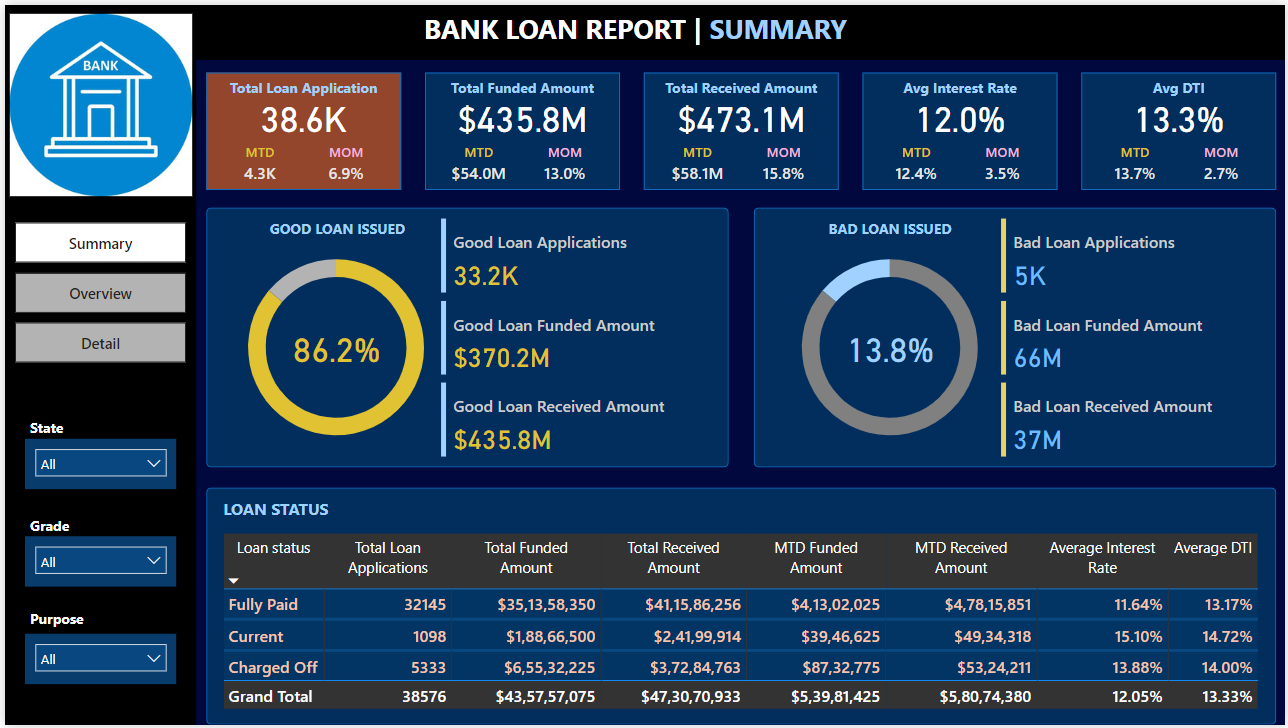

This screenshot's page, from the dashboard's own definition file:
{"tool":"powerbi","page":{"name":"Summary","canvas":[1280,720],"ordinal":1},"visuals":[{"type":"shape","box":[0,55,191.2,665],"z":0},{"type":"shape","box":[201.2,67.5,195,117.5],"z":0,"group":"g1"},{"type":"shape","box":[420.1,67.5,195,117.5],"z":0,"group":"g2"},{"type":"shape","box":[638.9,67.5,195,117.5],"z":0,"group":"g3"},{"type":"shape","box":[857.8,67.5,195,117.5],"z":0,"group":"g5"},{"type":"shape","box":[1076.6,67.5,195,117.5],"z":0,"group":"g4"},{"type":"card","fields":{"Values":["Dax Measures.Total Loan Applications"]},"box":[201.2,86.3,195,51.2],"z":1000,"group":"g1"},{"type":"card","fields":{"Values":["Dax Measures.Total Funded Amount"]},"box":[420.1,86.3,195,51.2],"z":1000,"group":"g2"},{"type":"card","fields":{"Values":["Dax Measures.Total Received Amount"]},"box":[638.9,86.3,195,51.2],"z":1000,"group":"g3"},{"type":"card","fields":{"Values":["Dax Measures.Average Interest Rate"]},"box":[857.8,86.3,195,51.2],"z":1000,"group":"g5"},{"type":"card","fields":{"Values":["Dax Measures.Average DTI"]},"box":[1076.6,86.3,195,51.2],"z":1000,"group":"g4"},{"type":"shape","box":[201.2,202.5,522.5,260],"z":1000},{"type":"shape","box":[0,0,1280,55],"z":2000},{"type":"textbox","box":[201.2,67.5,195,36.2],"z":2000,"group":"g1"},{"type":"textbox","box":[420.1,67.5,195,36.2],"z":2000,"group":"g2"},{"type":"textbox","box":[638.9,67.5,195,36.2],"z":2000,"group":"g3"},{"type":"textbox","box":[857.8,67.5,195,36.2],"z":2000,"group":"g5"},{"type":"textbox","box":[1076.6,67.5,195,36.2],"z":2000,"group":"g4"},{"type":"card","title":"MTD","fields":{"Values":["Dax Measures.MTD Total Loan Applications"]},"box":[212.4,137.5,85,47.5],"z":3000,"group":"g1"},{"type":"card","title":"MTD","fields":{"Values":["Dax Measures.MTD Funded Amount"]},"box":[431.3,137.5,85,47.5],"z":3000,"group":"g2"},{"type":"card","title":"MTD","fields":{"Values":["Dax Measures.MTD Received Amount"]},"box":[650.1,137.5,85,47.5],"z":3000,"group":"g3"},{"type":"card","title":"MTD","fields":{"Values":["Dax Measures.MTD Average Rate"]},"box":[869,137.5,85,47.5],"z":3000,"group":"g5"},{"type":"card","title":"MTD","fields":{"Values":["Dax Measures.MTD DTI"]},"box":[1087.8,137.5,85,47.5],"z":3000,"group":"g4"},{"type":"textbox","box":[20,407.8,90,42.9],"z":3000},{"type":"textbox","box":[413.8,0,452.5,53.8],"z":4000},{"type":"card","title":"MOM","fields":{"Values":["Dax Measures.MOM Loan Applications Percentage"]},"box":[298.7,137.5,85,47.5],"z":4000,"group":"g1"},{"type":"card","title":"MOM","fields":{"Values":["Dax Measures.MOM Funded Amount %"]},"box":[517.6,137.5,85,47.5],"z":4000,"group":"g2"},{"type":"card","title":"MOM","fields":{"Values":["Dax Measures.MOM Received Amount %"]},"box":[736.4,137.5,85,47.5],"z":4000,"group":"g3"},{"type":"card","title":"MOM","fields":{"Values":["Dax Measures.MOM Average Interest Rate %"]},"box":[955.3,137.5,85,47.5],"z":4000,"group":"g5"},{"type":"card","title":"MOM","fields":{"Values":["Dax Measures.MOM DTI %"]},"box":[1174.1,137.5,85,47.5],"z":4000,"group":"g4"},{"type":"group","id":"g1","title":"Group 1","box":[201.2,67.5,195,117.5],"z":5000},{"type":"group","id":"g2","title":"Group 1","box":[420.1,67.5,195,117.5],"z":6000},{"type":"donutChart","fields":{"Y":["Dax Measures.Total Loan Applications"],"Category":["Bank_loan_data.Good Vs Bad Loan (groups)"],"Series":["Bank_loan_data.Good Vs Bad Loan"]},"box":[206.2,227.5,250,230],"z":7000},{"type":"group","id":"g3","title":"Group 1","box":[638.9,67.5,195,117.5],"z":8000},{"type":"group","id":"g4","title":"Group 1","box":[1076.6,67.5,195,117.5],"z":9000},{"type":"card","fields":{"Values":["Dax Measures.Good Loan %"]},"box":[261.2,315,141.2,55],"z":10000},{"type":"group","id":"g5","title":"Group 1","box":[857.8,67.5,195,117.5],"z":11000},{"type":"shape","box":[748.8,202.5,522.5,260],"z":12000},{"type":"cardVisual","fields":{"Data":["Dax Measures.Good Loan Applications","Dax Measures.Good Loan Funded Amount","Dax Measures.Good Loan Received Amount"]},"box":[431.2,208.8,282.5,248.8],"z":13000},{"type":"shape","box":[201.4,482.9,1070,237.1],"z":14000},{"type":"textbox","box":[235,208.8,195,36.2],"z":15000},{"type":"donutChart","fields":{"Y":["Dax Measures.Total Loan Applications"],"Category":["Bank_loan_data.Good Vs Bad Loan (groups)"],"Series":["Bank_loan_data.Good Vs Bad Loan"]},"box":[760,227.5,250,230],"z":16000},{"type":"textbox","box":[787.5,208.8,195,36.2],"z":17000},{"type":"card","fields":{"Values":["Dax Measures.Bad Loan %"]},"box":[815,315,141.2,55],"z":18000},{"type":"cardVisual","fields":{"Data":["Dax Measures.Bad Loan Applications","Dax Measures.Bad Loan Funded Amount","Dax Measures.Bad Loan Received Amount"]},"box":[991.2,208.8,276.2,248.8],"z":19000},{"type":"tableEx","fields":{"Values":["Bank_loan_data.loan_status","Dax Measures.Total Loan Applications","Dax Measures.Total Funded Amount","Dax Measures.Total Received Amount","Dax Measures.MTD Funded Amount","Dax Measures.MTD Received Amount","Dax Measures.Average Interest Rate","Dax Measures.Average DTI"]},"box":[212.9,524.3,1045.7,195.7],"z":20000},{"type":"textbox","box":[208.6,487.1,194.3,37.1],"z":21000},{"type":"slicer","fields":{"Values":["Bank_loan_data.address_state"]},"box":[20,433.5,151.4,50],"z":22000},{"type":"slicer","fields":{"Values":["Bank_loan_data.grade"]},"box":[20,530.8,151.4,50],"z":23000},{"type":"textbox","box":[20,505.7,75.7,37.1],"z":24000},{"type":"slicer","fields":{"Values":["Bank_loan_data.purpose"]},"box":[20,628.1,151.4,50],"z":25000},{"type":"textbox","box":[20,598.6,90,30],"z":26000},{"type":"image","box":[0,0,192,200],"z":27000},{"type":"pageNavigator","box":[10,218,171,142],"z":28000}]}

Visuals, with their boxes in screenshot pixels (x1, y1, x2, y2), scaled from the page's 1280x720 canvas onto the 1288x728 screenshot:
shape: locate(0, 56, 192, 727)
shape: locate(202, 68, 399, 187)
shape: locate(423, 68, 619, 187)
shape: locate(643, 68, 839, 187)
shape: locate(863, 68, 1059, 187)
shape: locate(1083, 68, 1280, 187)
card - Dax Measures.Total Loan Applications: locate(202, 87, 399, 139)
card - Dax Measures.Total Funded Amount: locate(423, 87, 619, 139)
card - Dax Measures.Total Received Amount: locate(643, 87, 839, 139)
card - Dax Measures.Average Interest Rate: locate(863, 87, 1059, 139)
card - Dax Measures.Average DTI: locate(1083, 87, 1280, 139)
shape: locate(202, 205, 728, 468)
shape: locate(0, 0, 1287, 56)
textbox: locate(202, 68, 399, 105)
textbox: locate(423, 68, 619, 105)
textbox: locate(643, 68, 839, 105)
textbox: locate(863, 68, 1059, 105)
textbox: locate(1083, 68, 1280, 105)
"MTD" card: locate(214, 139, 299, 187)
"MTD" card: locate(434, 139, 520, 187)
"MTD" card: locate(654, 139, 740, 187)
"MTD" card: locate(874, 139, 960, 187)
"MTD" card: locate(1095, 139, 1180, 187)
textbox: locate(20, 412, 111, 456)
textbox: locate(416, 0, 872, 54)
"MOM" card: locate(301, 139, 386, 187)
"MOM" card: locate(521, 139, 606, 187)
"MOM" card: locate(741, 139, 827, 187)
"MOM" card: locate(961, 139, 1047, 187)
"MOM" card: locate(1181, 139, 1267, 187)
"Group 1" group: locate(202, 68, 399, 187)
"Group 1" group: locate(423, 68, 619, 187)
donutChart - Dax Measures.Total Loan Applications x Bank_loan_data.Good Vs Bad Loan (groups): locate(207, 230, 459, 463)
"Group 1" group: locate(643, 68, 839, 187)
"Group 1" group: locate(1083, 68, 1280, 187)
card - Dax Measures.Good Loan %: locate(263, 318, 405, 374)
"Group 1" group: locate(863, 68, 1059, 187)
shape: locate(753, 205, 1279, 468)
cardVisual - Dax Measures.Good Loan Applications x Dax Measures.Good Loan Funded Amount: locate(434, 211, 718, 463)
shape: locate(203, 488, 1279, 727)
textbox: locate(236, 211, 433, 248)
donutChart - Dax Measures.Total Loan Applications x Bank_loan_data.Good Vs Bad Loan (groups): locate(765, 230, 1016, 463)
textbox: locate(792, 211, 989, 248)
card - Dax Measures.Bad Loan %: locate(820, 318, 962, 374)
cardVisual - Dax Measures.Bad Loan Applications x Dax Measures.Bad Loan Funded Amount: locate(997, 211, 1275, 463)
tableEx - Bank_loan_data.loan_status x Dax Measures.Total Loan Applications: locate(214, 530, 1266, 727)
textbox: locate(210, 493, 405, 530)
slicer - Bank_loan_data.address_state: locate(20, 438, 172, 489)
slicer - Bank_loan_data.grade: locate(20, 537, 172, 587)
textbox: locate(20, 511, 96, 549)
slicer - Bank_loan_data.purpose: locate(20, 635, 172, 686)
textbox: locate(20, 605, 111, 636)
image: locate(0, 0, 193, 202)
pageNavigator: locate(10, 220, 182, 364)
